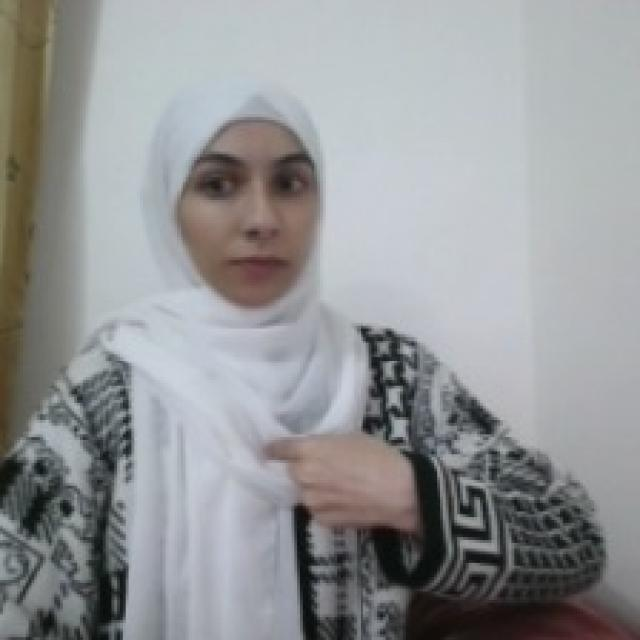me: (257, 421, 409, 542)
